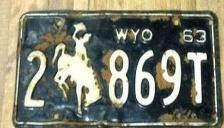2: (21, 50, 50, 109)
6: (134, 47, 157, 107)
8: (107, 47, 131, 108)
9: (159, 49, 183, 107)
T: (184, 50, 209, 108)
